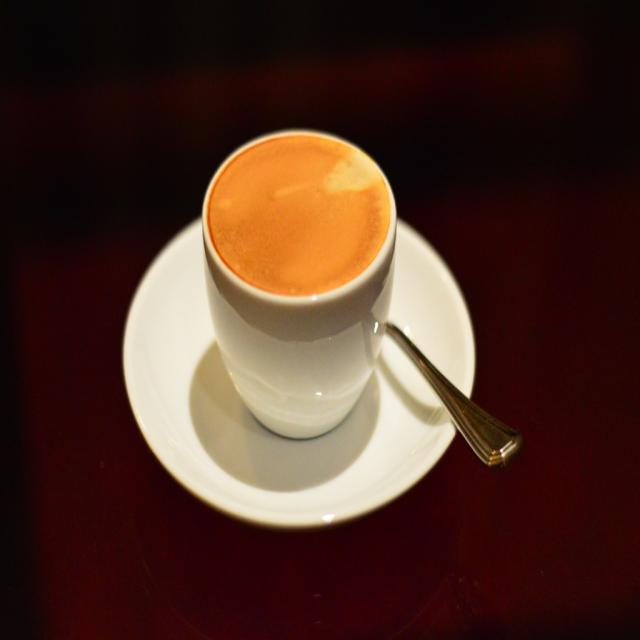Coffee: (204, 132, 394, 299)
